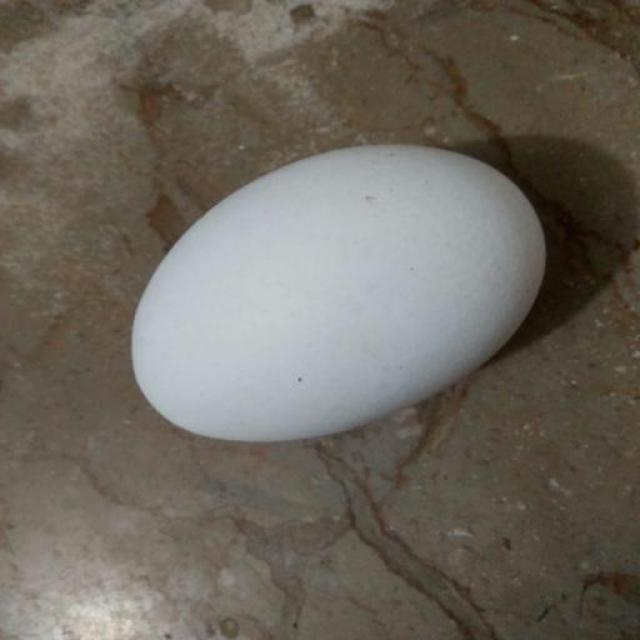telur: (132, 147, 547, 442)
